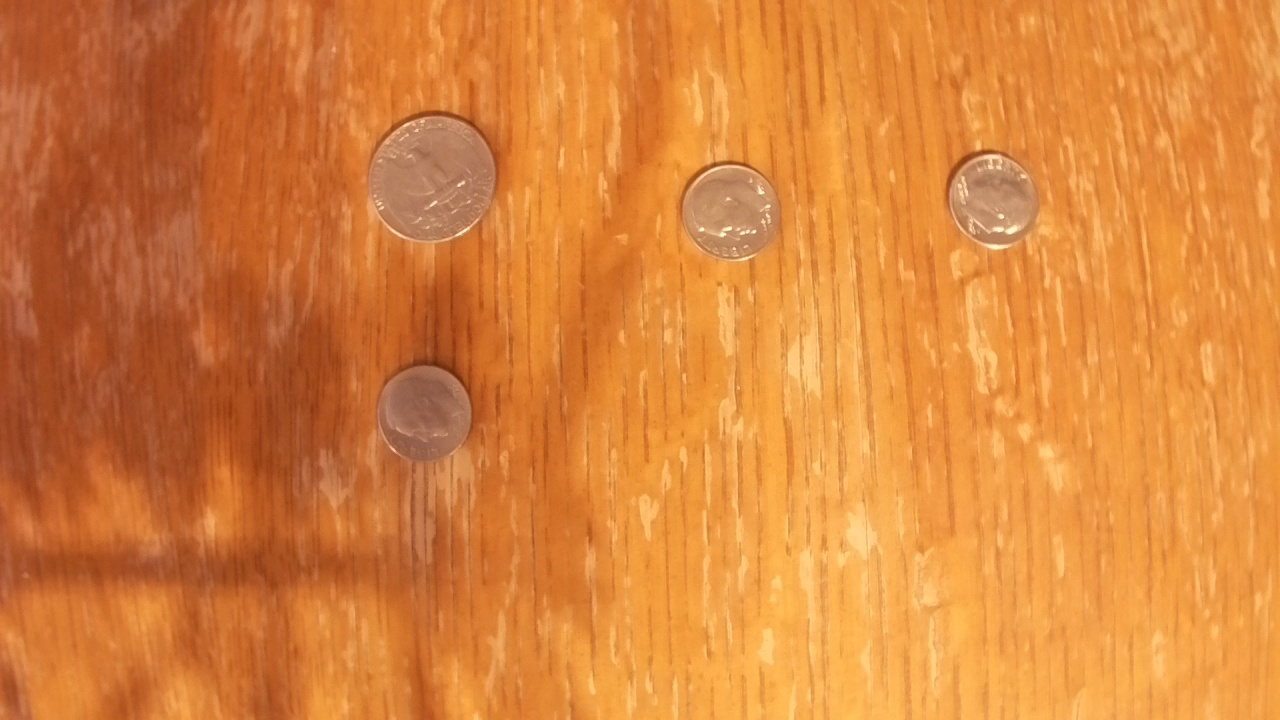dime: (683, 161, 781, 262), (374, 363, 474, 461), (947, 150, 1040, 251)
quarter: (366, 111, 501, 247)
